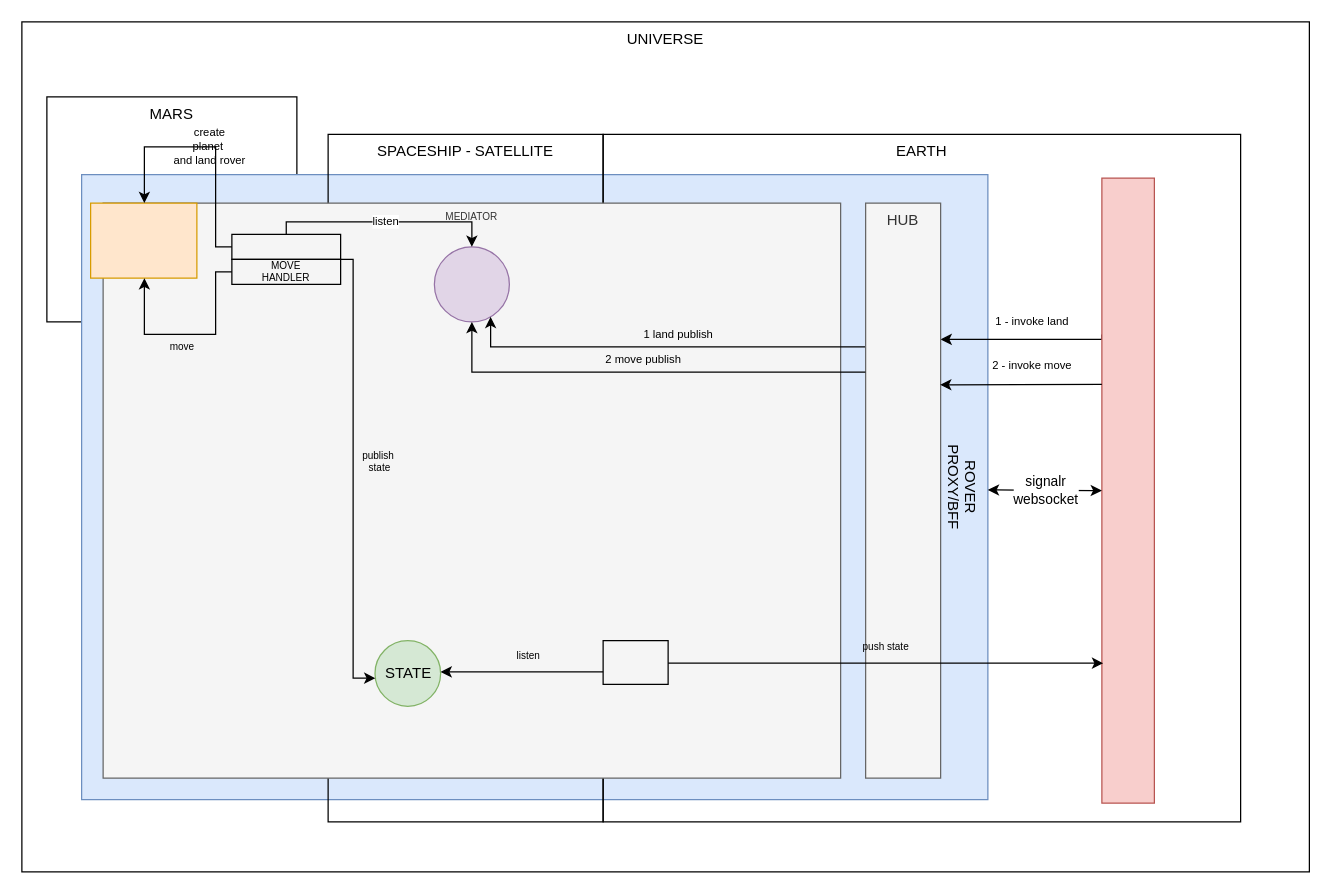
This 1331x894 diagram has some shape labels left out. The shapes that lost their labels are listed below. From the top down, each one's centre as x and y in pixels, then its label:
At point (143, 240): "ROVER LIBRARY".
At point (286, 246): "LAND HANDLER".
At point (471, 284): "COMMANDS".
At point (1127, 490): "ROVER SPA".
At point (635, 661): "STATE HANDLER".
